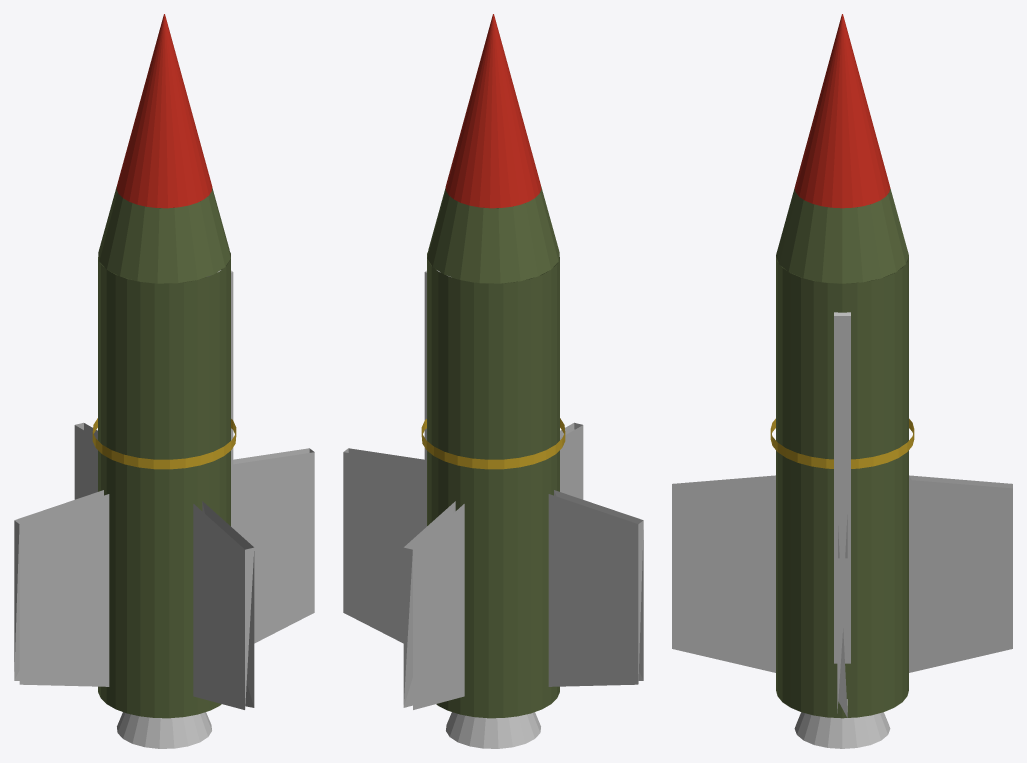
File: srbm.obj
3 views of the same model, side by side, from view 1: azimuth 30°, elevation 25°; view 2: azimuth 150°, elevation 25°; view 3: azimuth 270°, elevation 25° (orthographic).
Visible parts, largest first — view 1: srbm; view 2: srbm; view 3: srbm.
Part boxes in pixels (x1,y1,x2,y2): srbm: (14, 14, 314, 748); srbm: (343, 14, 643, 748); srbm: (672, 14, 1012, 748).
Bounding box in the file's own units: 0.64 × 1.48 × 0.64.
